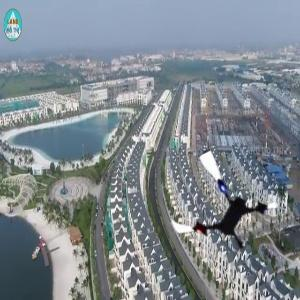drone: (165, 146, 282, 263)
